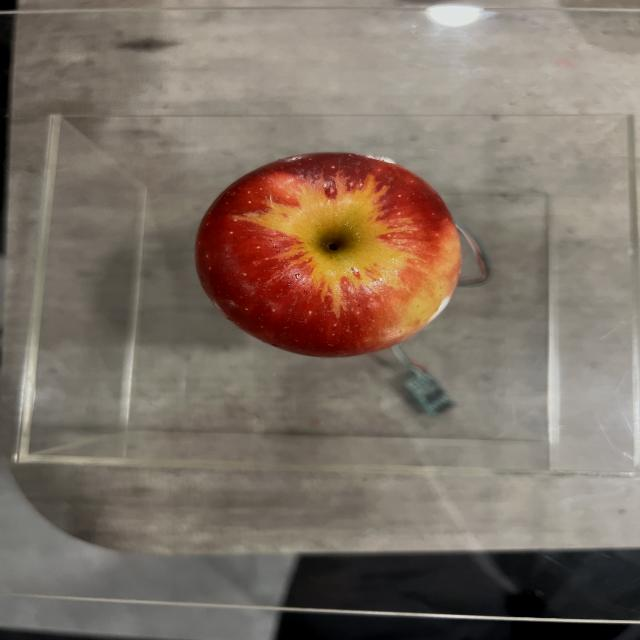red apple: (189, 150, 460, 360)
